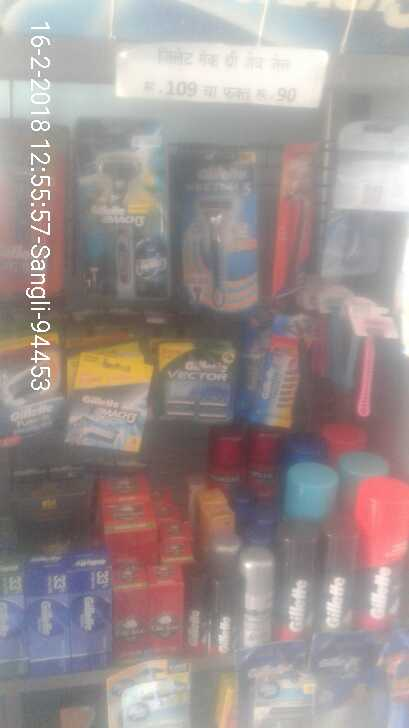gillette: (72, 117, 159, 304), (176, 147, 251, 297), (65, 348, 149, 450), (355, 483, 399, 639), (156, 342, 231, 423), (276, 520, 314, 634), (256, 310, 291, 417), (320, 522, 351, 632), (205, 564, 237, 658), (185, 567, 204, 662)
